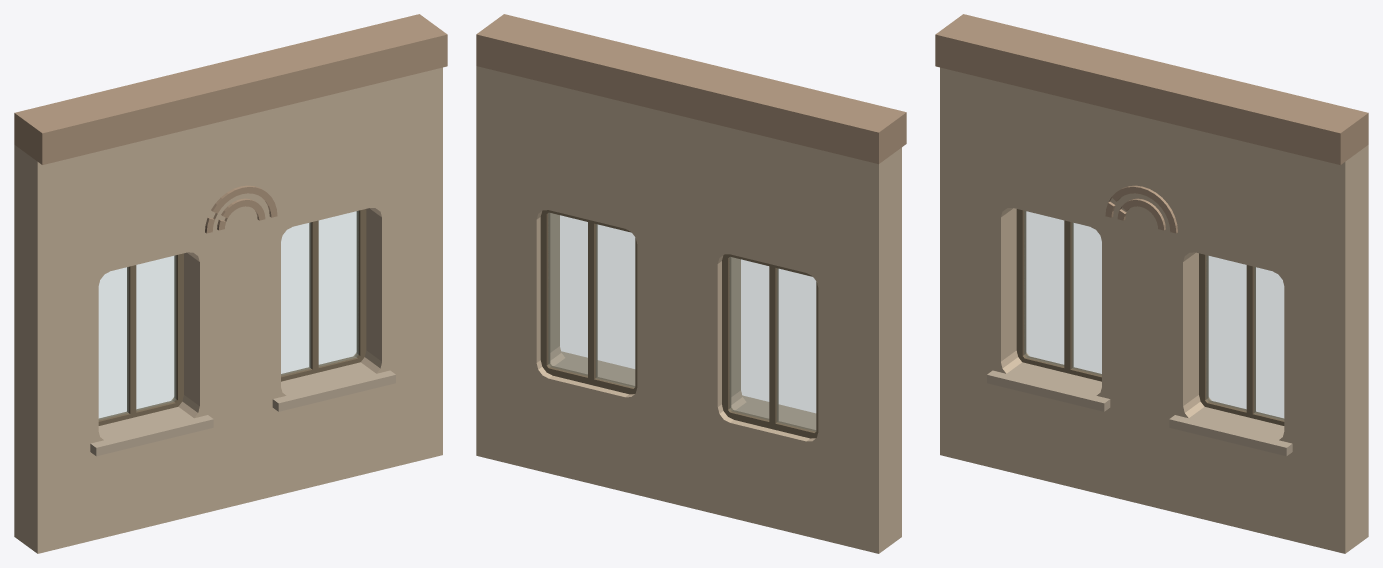
The model's file is city_res_window_pair.glb.
3 views of the same model, side by side, from view 1: azimuth 30°, elevation 25°; view 2: azimuth 150°, elevation 25°; view 3: azimuth 330°, elevation 25° (orthographic).
Visible parts, largest first — view 1: CityResWindowPair_Wall, CityResWindowPair_Band, CityResWindowPair_W1Glass, CityResWindowPair_W0Glass, CityResWindowPair_W0Sill, CityResWindowPair_W1Sill, CityResWindowPair_W1Frame, CityResWindowPair_W0Frame, CityResWindowPair_W1Mullion, CityResWindowPair_W0Mullion, CityResWindowPair_Ripples; view 2: CityResWindowPair_Wall, CityResWindowPair_Band, CityResWindowPair_W1Glass, CityResWindowPair_W0Glass, CityResWindowPair_W1Frame, CityResWindowPair_W0Frame, CityResWindowPair_W0Mullion, CityResWindowPair_W1Mullion, CityResWindowPair_W0Sill, CityResWindowPair_W1Sill; view 3: CityResWindowPair_Wall, CityResWindowPair_Band, CityResWindowPair_W1Glass, CityResWindowPair_W0Glass, CityResWindowPair_W1Sill, CityResWindowPair_W0Sill, CityResWindowPair_W0Frame, CityResWindowPair_W1Frame, CityResWindowPair_W1Mullion, CityResWindowPair_W0Mullion, CityResWindowPair_Ripples.
Boxes of the visible parts, x1,y1,x2,y2 form: CityResWindowPair_Wall: [14, 67, 442, 553]; CityResWindowPair_Band: [14, 14, 447, 164]; CityResWindowPair_W1Glass: [281, 211, 358, 375]; CityResWindowPair_W0Glass: [99, 255, 175, 419]; CityResWindowPair_W0Sill: [90, 407, 213, 456]; CityResWindowPair_W1Sill: [272, 362, 395, 411]; CityResWindowPair_W1Frame: [281, 209, 366, 381]; CityResWindowPair_W0Frame: [98, 253, 183, 425]; CityResWindowPair_W1Mullion: [309, 220, 318, 373]; CityResWindowPair_W0Mullion: [127, 265, 136, 413]; CityResWindowPair_Ripples: [205, 185, 277, 233]; CityResWindowPair_Wall: [476, 66, 901, 553]; CityResWindowPair_Band: [476, 14, 906, 164]; CityResWindowPair_W1Glass: [548, 213, 634, 387]; CityResWindowPair_W0Glass: [729, 257, 815, 431]; CityResWindowPair_W1Frame: [540, 210, 637, 394]; CityResWindowPair_W0Frame: [722, 254, 818, 438]; CityResWindowPair_W0Mullion: [769, 266, 778, 426]; CityResWindowPair_W1Mullion: [588, 220, 597, 379]; CityResWindowPair_W0Sill: [735, 395, 816, 429]; CityResWindowPair_W1Sill: [555, 351, 635, 385]; CityResWindowPair_Wall: [940, 67, 1368, 553]; CityResWindowPair_Band: [935, 14, 1368, 164]; CityResWindowPair_W1Glass: [1206, 255, 1283, 419]; CityResWindowPair_W0Glass: [1024, 211, 1101, 375]; CityResWindowPair_W1Sill: [1169, 407, 1292, 456]; CityResWindowPair_W0Sill: [987, 362, 1110, 411]; CityResWindowPair_W0Frame: [1016, 209, 1101, 381]; CityResWindowPair_W1Frame: [1199, 253, 1284, 425]; CityResWindowPair_W1Mullion: [1246, 265, 1255, 417]; CityResWindowPair_W0Mullion: [1064, 220, 1073, 372]; CityResWindowPair_Ripples: [1105, 185, 1177, 233].
Size of the model in its own units: 4 by 4 by 0.5.
